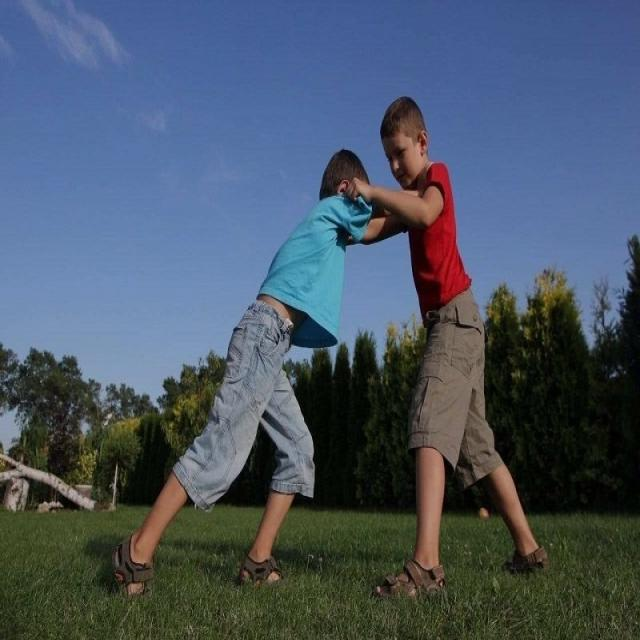fight: (107, 94, 548, 598)
